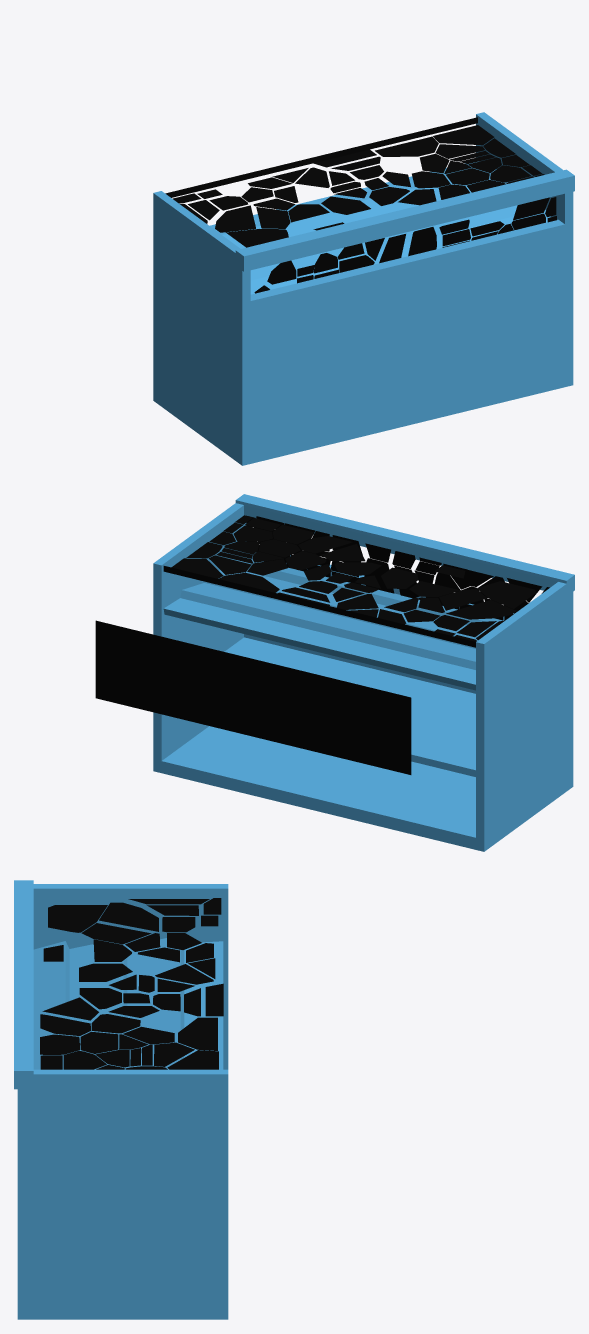
3 renders of one model, top to bottom at view 1: azimuth 30°, elevation 25°; view 2: azimuth 150°, elevation 25°; view 3: azimuth 270°, elevation 25°, orthographic. The views are drawn at different scales.
Visible parts, largest first — view 1: Cube_17, Cube_17.001_cell.090, Cube_17.001_cell.086, Cube_17.001_cell.073, Cube_17.001_cell.077, Cube_17.001_cell.051, Cube_17.001_cell.063, Cube_17.001_cell.004; view 2: Cube_17, Cube_17.001, Cube_17.001_cell.077, Cube_17.001_cell.073, Cube_17.001_cell.090, Cube_17.001_cell.063, Cube_17.001_cell.086, Cube_17.001_cell.004, Cube_17.001_cell.089, Cube_17.001_cell.055, Cube_17.001_cell.003, Cube_17.001_cell.030 (+6 smaller); view 3: Cube_17, Cube_17.001_cell.077, Cube_17.001_cell.073, Cube_17.001_cell.086, Cube_17.001_cell.063, Cube_17.001_cell.004, Cube_17.001_cell.089, Cube_17.001_cell.090, Cube_17.001_cell.055, Cube_17.001_cell.030, Cube_17.001_cell.003, Cube_17.001_cell.020 (+7 smaller).
Part boxes in pixels (<box>): Cube_17: <box>153,112,574,465</box>; Cube_17.001_cell.090: <box>433,125,494,145</box>; Cube_17.001_cell.086: <box>375,136,438,156</box>; Cube_17.001_cell.073: <box>215,205,255,232</box>; Cube_17.001_cell.077: <box>226,229,288,247</box>; Cube_17.001_cell.051: <box>408,227,436,256</box>; Cube_17.001_cell.063: <box>256,207,290,228</box>; Cube_17.001_cell.004: <box>321,196,370,214</box>; Cube_17: <box>153,494,574,851</box>; Cube_17.001: <box>95,620,411,774</box>; Cube_17.001_cell.077: <box>478,581,535,608</box>; Cube_17.001_cell.073: <box>446,600,516,619</box>; Cube_17.001_cell.090: <box>171,558,223,578</box>; Cube_17.001_cell.063: <box>439,589,486,610</box>; Cube_17.001_cell.086: <box>219,572,279,592</box>; Cube_17.001_cell.004: <box>381,567,418,588</box>; Cube_17.001_cell.089: <box>298,536,352,553</box>; Cube_17.001_cell.055: <box>272,525,312,544</box>; Cube_17.001_cell.003: <box>258,539,300,557</box>; Cube_17.001_cell.030: <box>285,551,326,570</box>; Cube_17: <box>14,880,228,1319</box>; Cube_17.001_cell.077: <box>48,905,107,932</box>; Cube_17.001_cell.073: <box>99,902,158,931</box>; Cube_17.001_cell.086: <box>178,1017,217,1050</box>; Cube_17.001_cell.063: <box>81,923,151,944</box>; Cube_17.001_cell.004: <box>79,963,132,981</box>; Cube_17.001_cell.089: <box>40,1014,90,1035</box>; Cube_17.001_cell.090: <box>167,1050,218,1069</box>; Cube_17.001_cell.055: <box>40,1034,79,1054</box>; Cube_17.001_cell.030: <box>91,1014,140,1033</box>; Cube_17.001_cell.003: <box>80,1031,118,1053</box>; Cube_17.001_cell.020: <box>42,997,98,1020</box>.
Size of the model in its own units: 150 by 91.27 by 187.
